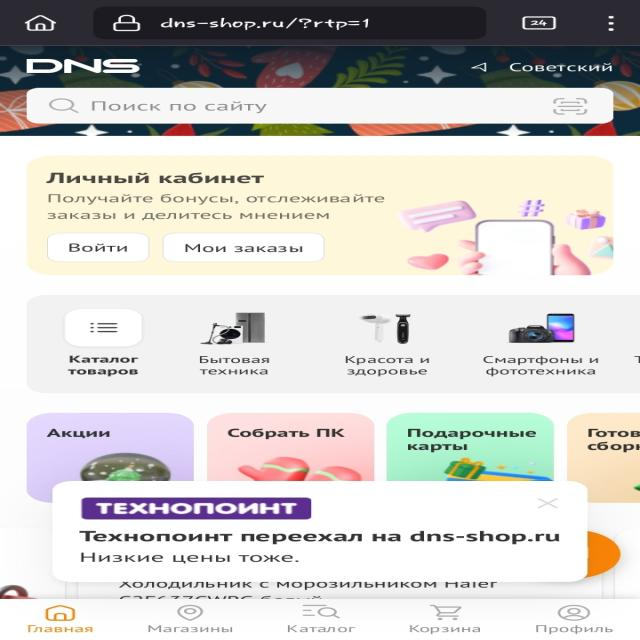button: (532, 496, 566, 513)
site: (53, 481, 587, 583)
